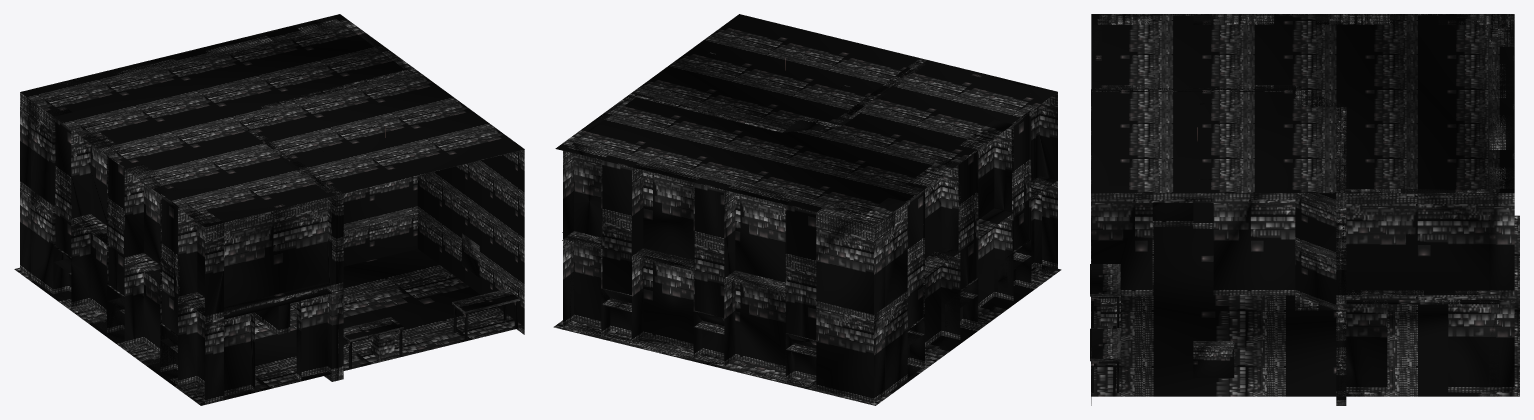
The model's file is room1162_opt.obj.
The picture shows the model from 3 angles, left to right: view 1: azimuth 30°, elevation 25°; view 2: azimuth 150°, elevation 25°; view 3: azimuth 270°, elevation 25°; orthographic projection. The views are drawn at different scales.
Size of the model in its own units: 67.2 by 39.24 by 67.39.
11 materials, 11 textured.
